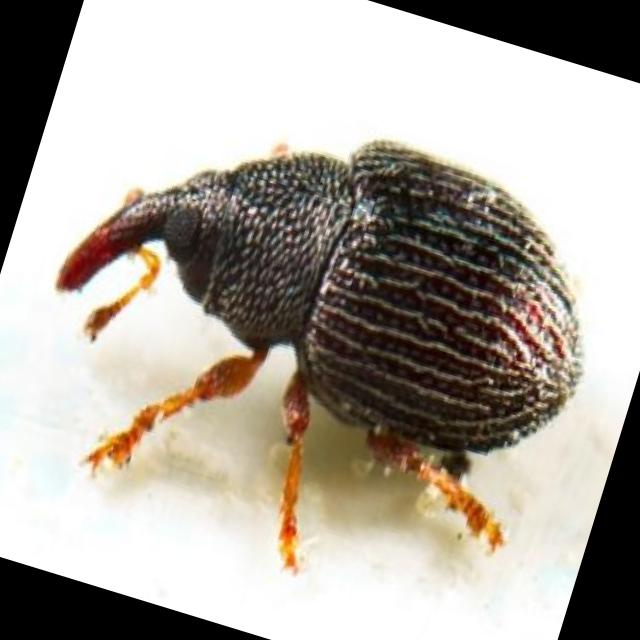rice-bug: (55, 139, 584, 573)
